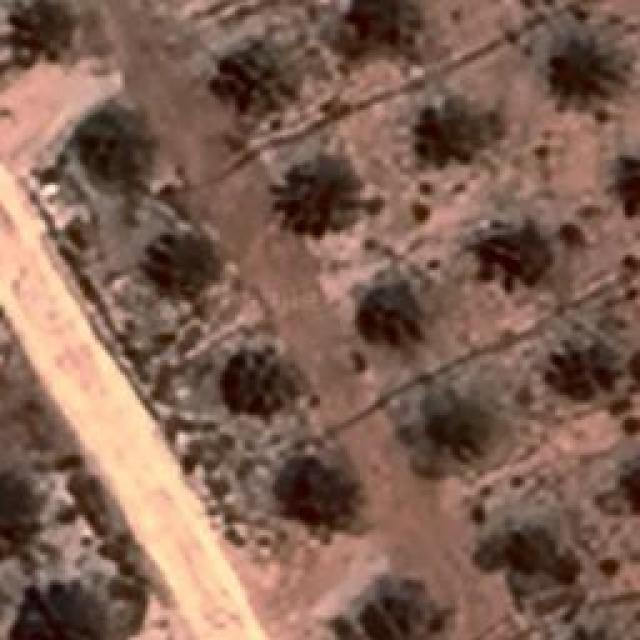PalmTree: (15, 69, 627, 506), (281, 157, 374, 235), (480, 216, 565, 294), (214, 50, 296, 125), (81, 108, 151, 184), (276, 456, 344, 526), (356, 278, 426, 344), (548, 336, 618, 402), (415, 96, 490, 156), (145, 230, 213, 295), (7, 585, 82, 640), (221, 352, 289, 412), (347, 0, 424, 52), (345, 590, 423, 638), (8, 0, 72, 58), (554, 35, 614, 95), (508, 525, 562, 583), (430, 396, 488, 449), (613, 452, 640, 521), (619, 154, 640, 216), (620, 452, 640, 516)
